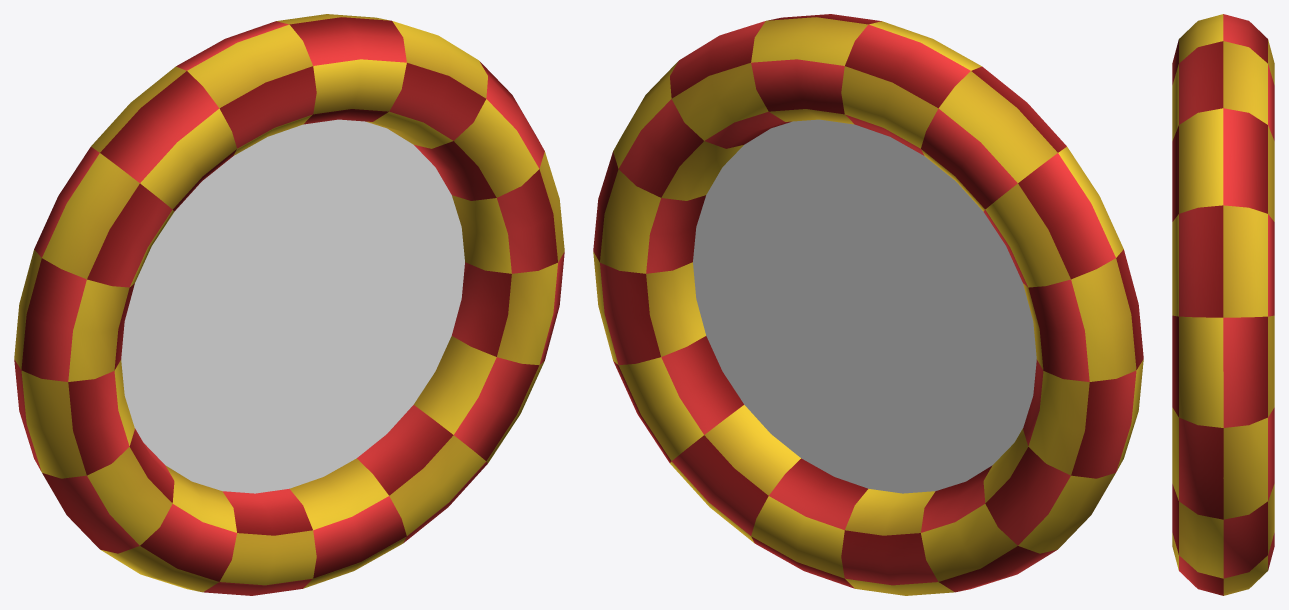
File: Fbx_SecretRing.fbx
The picture shows the model from 3 angles, left to right: view 1: azimuth 30°, elevation 25°; view 2: azimuth 150°, elevation 25°; view 3: azimuth 270°, elevation 25°; orthographic projection. The views are drawn at different scales.
Visible parts, largest first — view 1: Secret Ring; view 2: Secret Ring; view 3: Secret Ring.
Part boxes in pixels (left/top/right/bottom): Secret Ring: left=14, top=14, right=564, bottom=595; Secret Ring: left=593, top=14, right=1143, bottom=595; Secret Ring: left=1172, top=14, right=1274, bottom=595.
Size of the model in its own units: 9.42 by 9.42 by 1.66.
